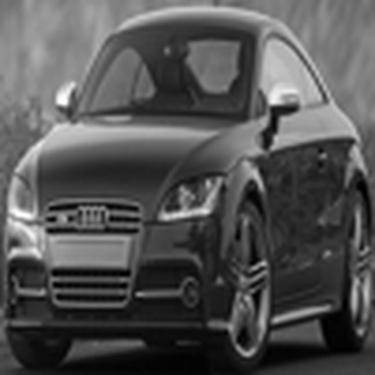car: (10, 15, 366, 353)
